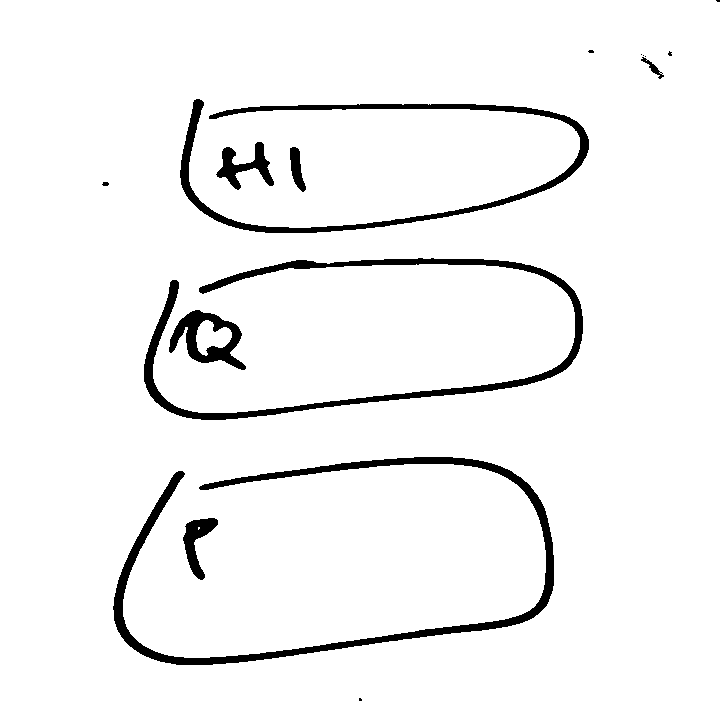heading1: (175, 93, 593, 239)
paragraph: (98, 451, 566, 674)
search bar: (137, 255, 591, 426)
